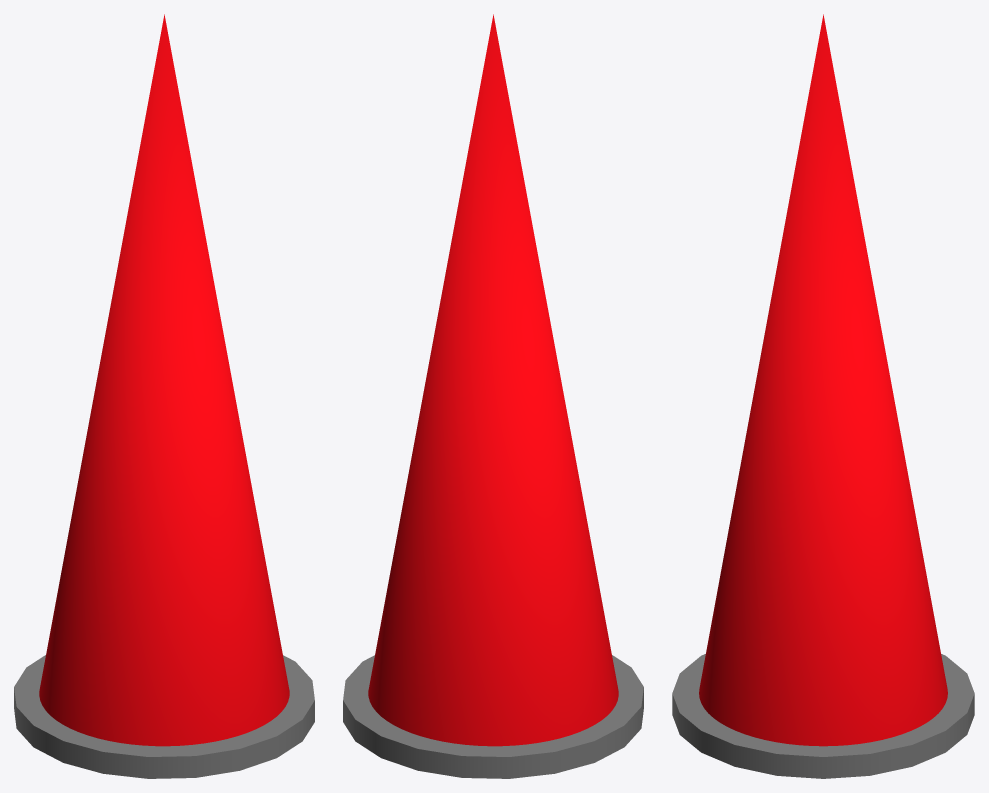
File: Spike.fbx
The picture shows the model from 3 angles, left to right: view 1: azimuth 30°, elevation 25°; view 2: azimuth 150°, elevation 25°; view 3: azimuth 270°, elevation 25°; orthographic projection.
Visible parts, largest first — view 1: Cone, Cylinder; view 2: Cone, Cylinder; view 3: Cone, Cylinder.
Part boxes in pixels (left/top/right/bottom): Cone: left=39, top=14, right=289, bottom=746; Cylinder: left=14, top=655, right=314, bottom=778; Cone: left=368, top=14, right=618, bottom=746; Cylinder: left=343, top=655, right=643, bottom=778; Cone: left=699, top=14, right=947, bottom=746; Cylinder: left=672, top=654, right=974, bottom=778.
Size of the model in its own units: 68.76 by 176 by 68.76.
